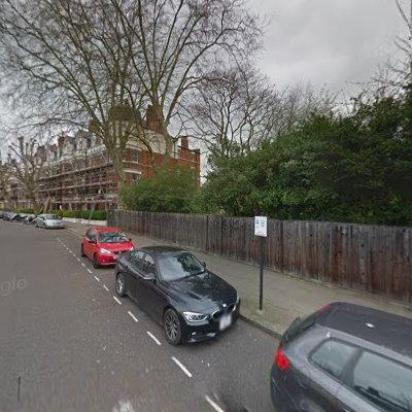stationary-car-onstreet: (268, 300, 410, 410), (114, 242, 242, 348), (80, 224, 136, 270), (35, 212, 63, 230), (1, 209, 18, 221)
stationary-motorcycle-onstreet: (22, 213, 36, 225)
